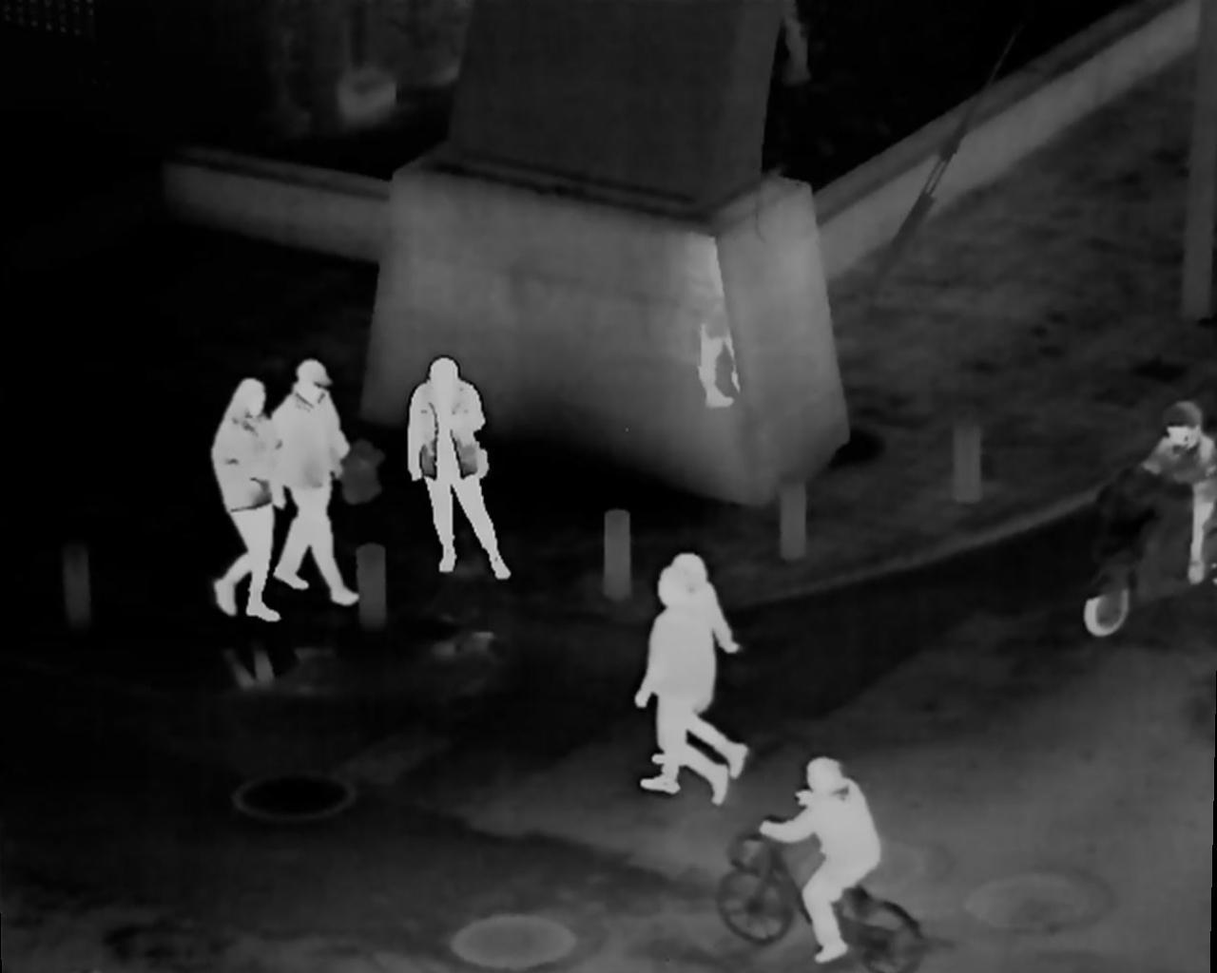person: (751, 753, 885, 954), (407, 354, 522, 582), (635, 556, 748, 777), (636, 567, 730, 809), (276, 354, 361, 610), (1117, 395, 1212, 603), (207, 381, 285, 627)
